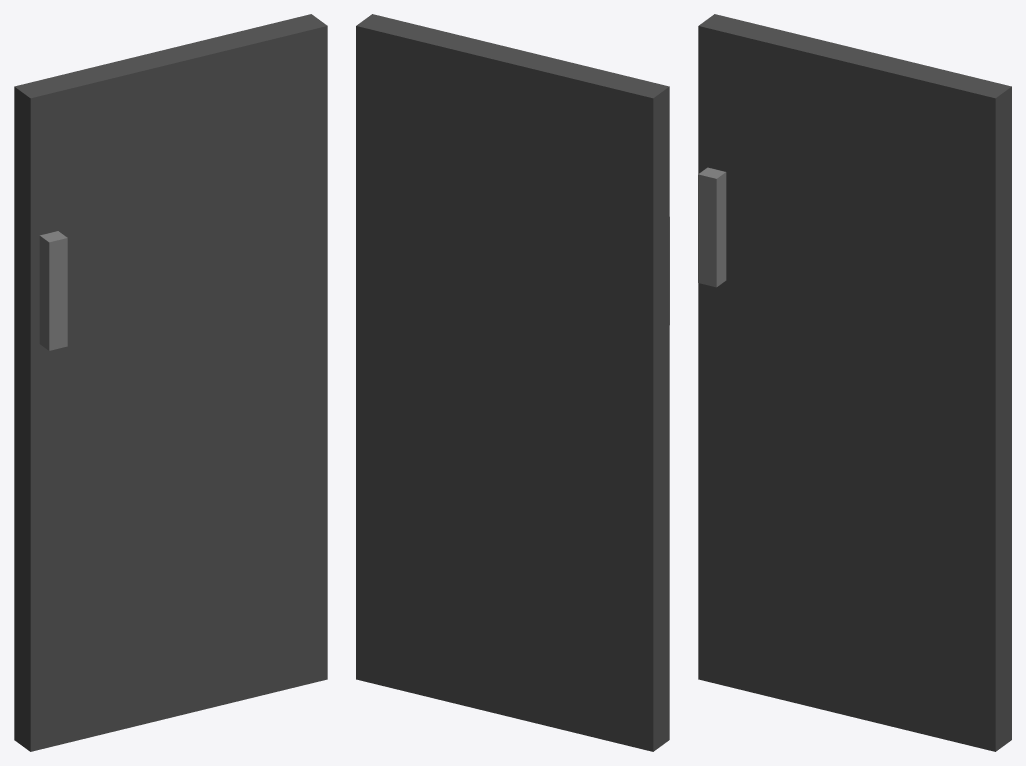
The model's file is Shelf_Door_A.fbx.
3 renders of one model, left to right at view 1: azimuth 30°, elevation 25°; view 2: azimuth 150°, elevation 25°; view 3: azimuth 330°, elevation 25°, orthographic.
Visible parts, largest first — view 1: Shelf_Door_A; view 2: Shelf_Door_A; view 3: Shelf_Door_A.
Boxes of the visible parts, <box> form: Shelf_Door_A: <box>14,14,327,751</box>; Shelf_Door_A: <box>356,14,669,751</box>; Shelf_Door_A: <box>698,14,1011,751</box>.
Bounding box in the file's own units: 43.87 × 92.2 × 6.58.
